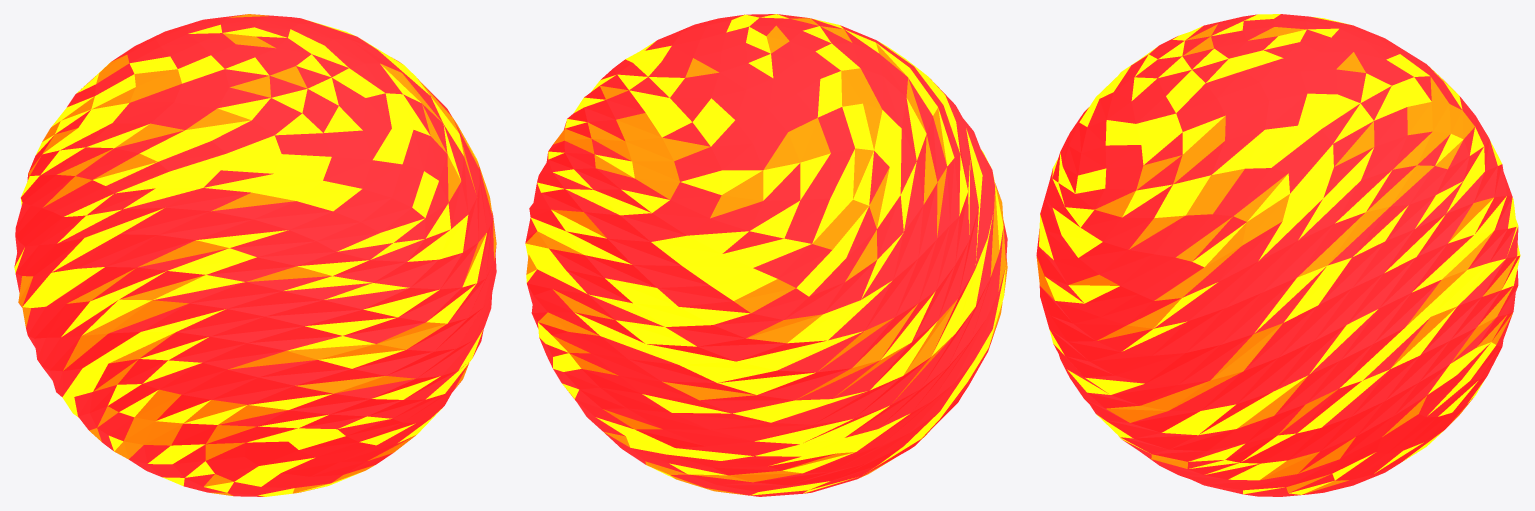
Rendered from Sun1.glb.
The picture shows the model from 3 angles, left to right: view 1: azimuth 30°, elevation 25°; view 2: azimuth 150°, elevation 25°; view 3: azimuth 270°, elevation 25°; orthographic projection.
Parts seen in each view (by area): view 1: Sun1; view 2: Sun1; view 3: Sun1.
Boxes of the visible parts, x1=… form: Sun1: x1=14, y1=14, x2=496, y2=496; Sun1: x1=525, y1=14, x2=1007, y2=496; Sun1: x1=1036, y1=14, x2=1520, y2=496.
Size of the model in its own units: 10 by 10 by 10.
